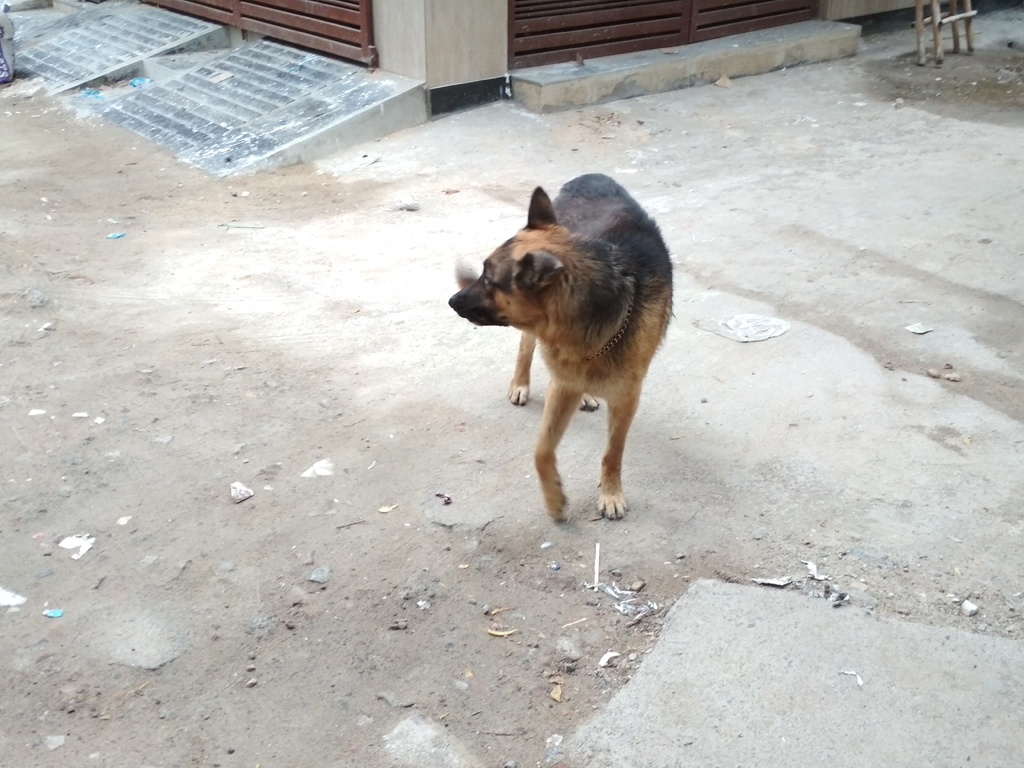dog: (450, 173, 675, 525)
